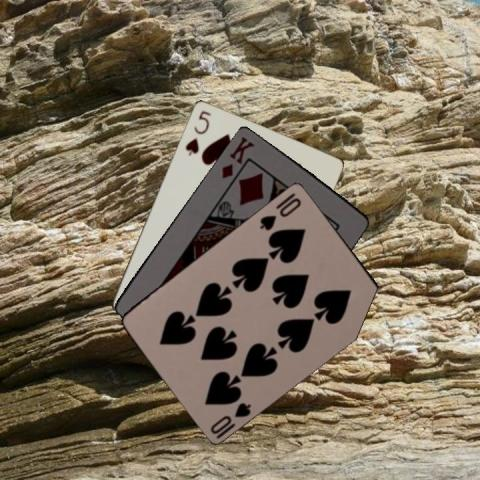10s: (206, 399, 253, 440), (256, 194, 302, 232)
5s: (182, 107, 213, 157)
Kd: (218, 133, 257, 180)
